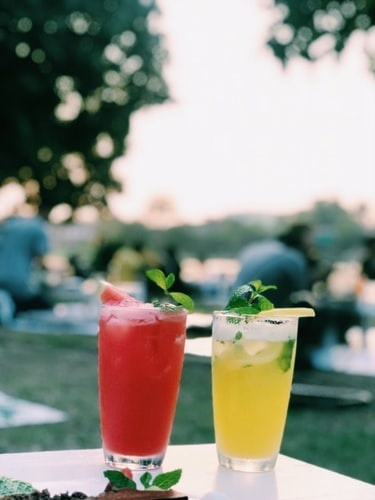whiskey: (89, 299, 188, 470), (210, 304, 309, 475)
